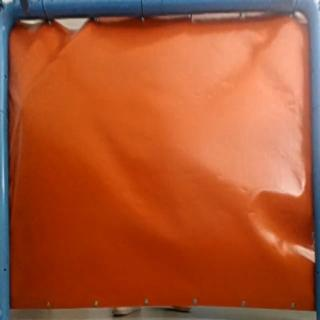Hit-hRxx: (13, 98, 30, 116)
